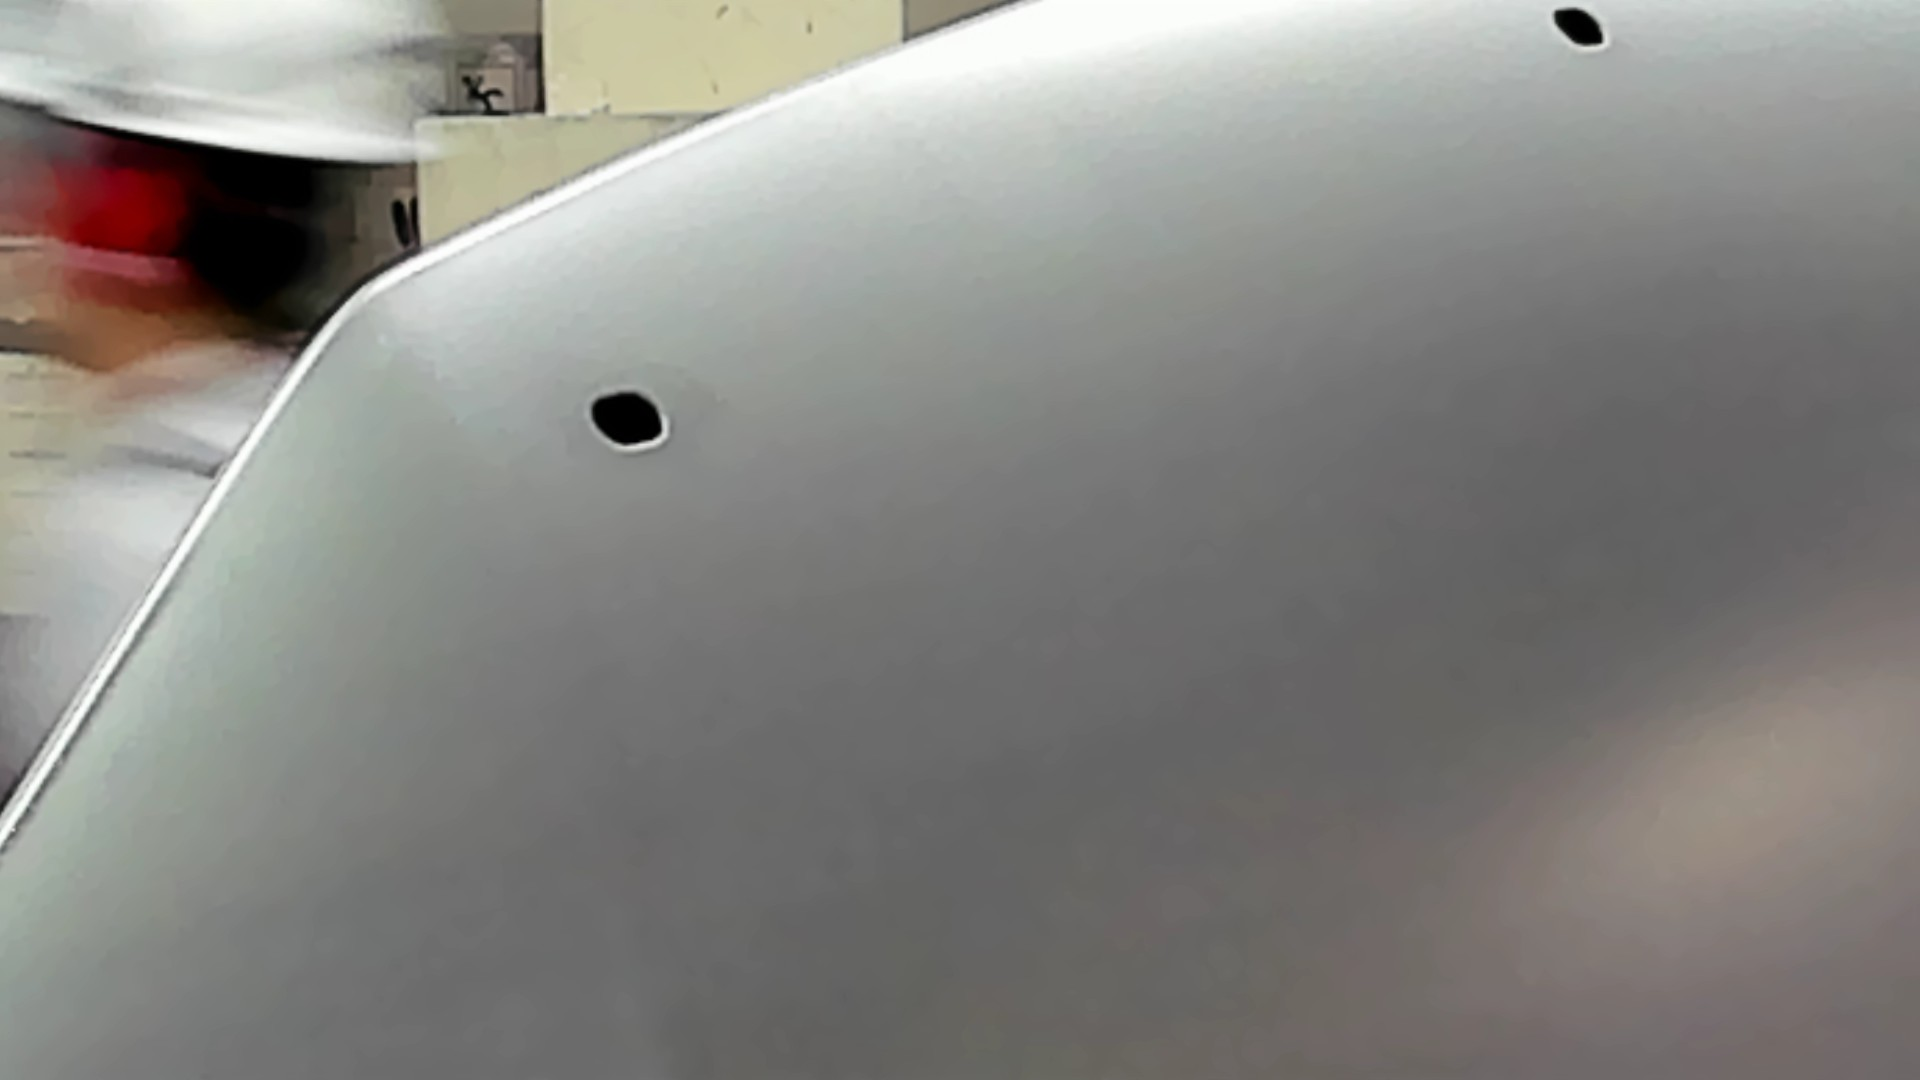amorfo: (579, 377, 671, 462), (1542, 1, 1615, 63)
capo: (775, 135, 1920, 1080)
